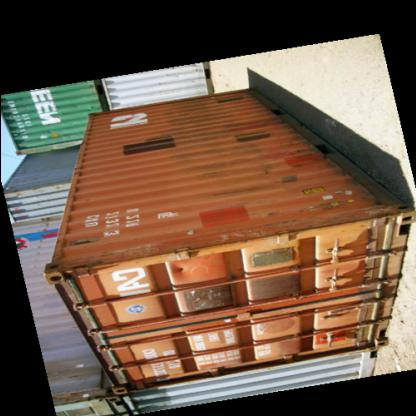Damage: (58, 205, 386, 280), (250, 138, 270, 182), (273, 172, 305, 190)
